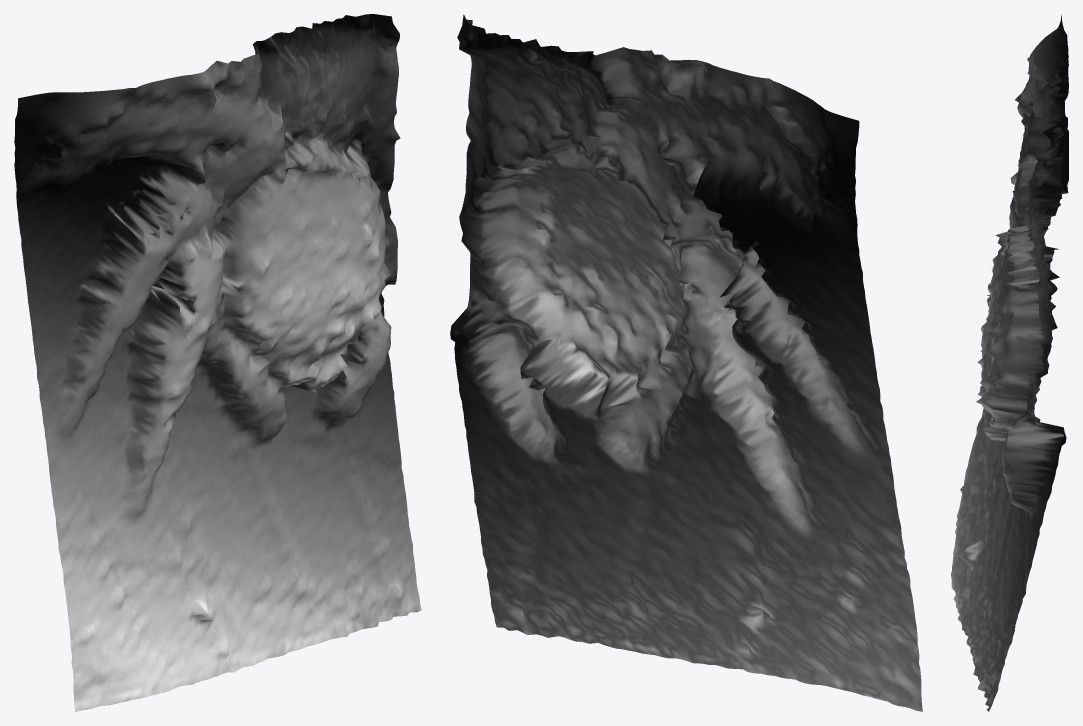
Rendered from Spider.obj.
3 views of the same model, side by side, from view 1: azimuth 30°, elevation 25°; view 2: azimuth 150°, elevation 25°; view 3: azimuth 270°, elevation 25° (orthographic). The views are drawn at different scales.
Visible parts, largest first — view 1: Spider; view 2: Spider; view 3: Spider.
Part boxes in pixels (x1,y1,x2,y2): Spider: [14, 14, 421, 711]; Spider: [450, 14, 922, 711]; Spider: [951, 14, 1068, 711].
Size of the model in its own units: 66 by 99 by 19.84.
1 material, 1 textured.
